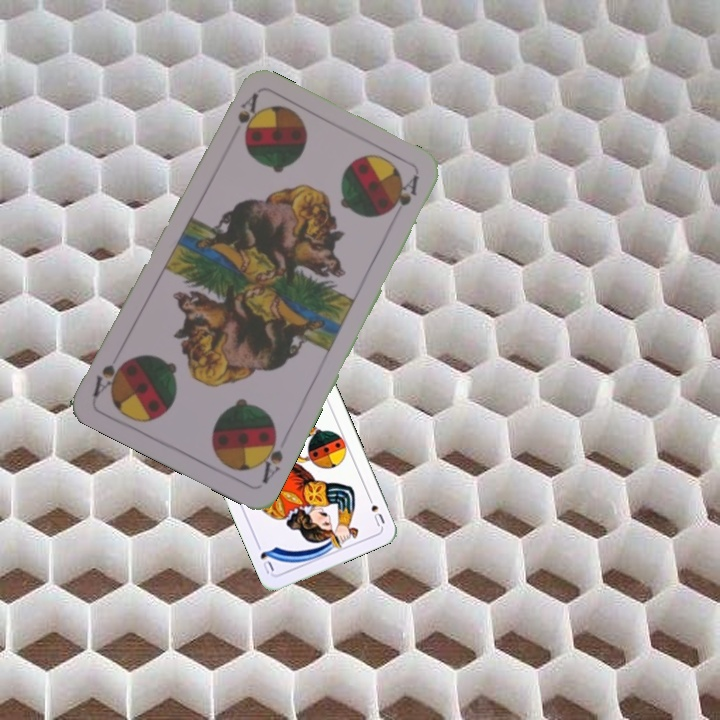SA: (253, 427, 286, 487), (233, 89, 261, 127)
SU: (363, 490, 387, 529)
